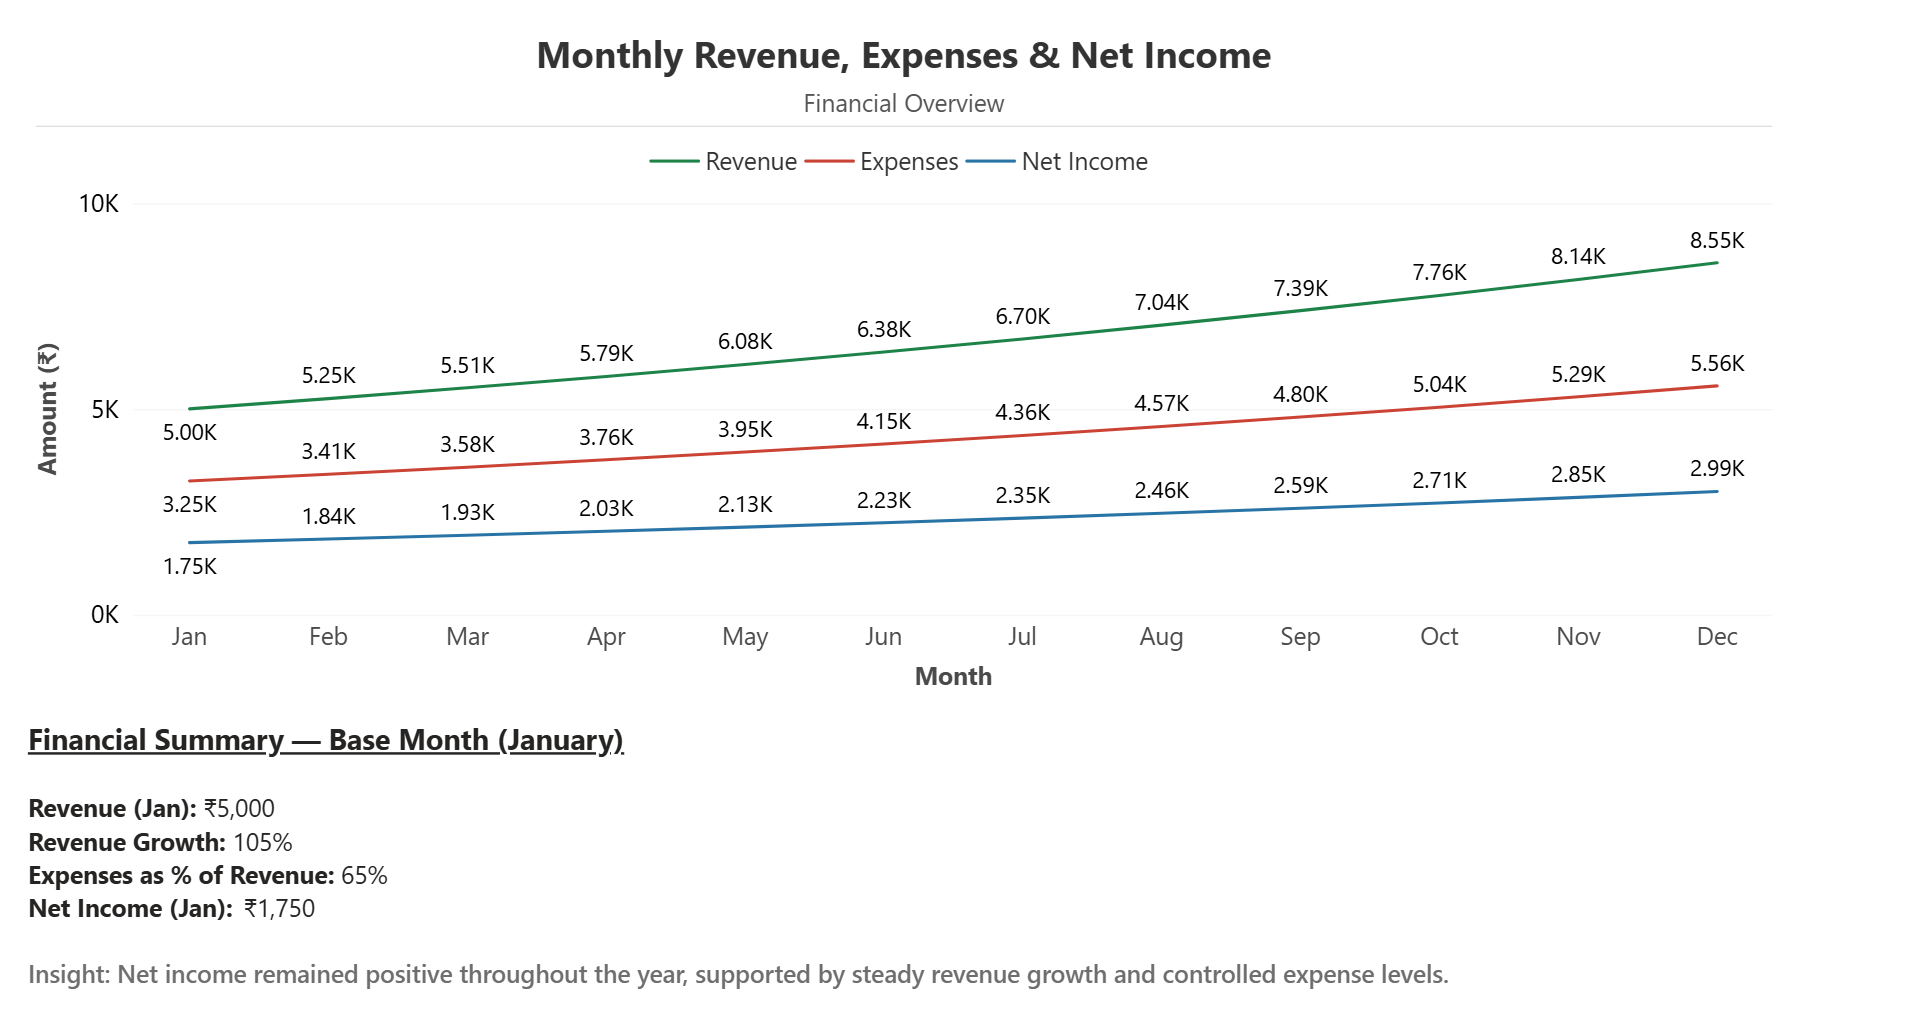

The page's visual inventory and layout, read from the dashboard file:
{"tool":"powerbi","page":{"name":"Page 1","canvas":[1280,720],"ordinal":0},"visuals":[{"type":"lineChart","title":"Monthly Revenue, Expenses & Net Income","fields":{"Y":["Sum(Net Income Projections (Sheet1).Amount)"],"Category":["Net Income Projections (Sheet1).Month"],"Series":["CategoryTable.Category"]},"box":[40,60,1150,460],"z":0},{"type":"textbox","box":[39.8,520.1,1149.9,189.4],"z":1001}]}

Visuals, with their boxes on the page's 1280x720 design canvas (x1, y1, x2, y2). These are canvas units, not pixel positions in the 1920x1014 screenshot, which may show the page scaled, cropped or inside an application window:
"Monthly Revenue, Expenses & Net Income" lineChart: (40,60,1190,520)
textbox: (40,520,1190,710)
